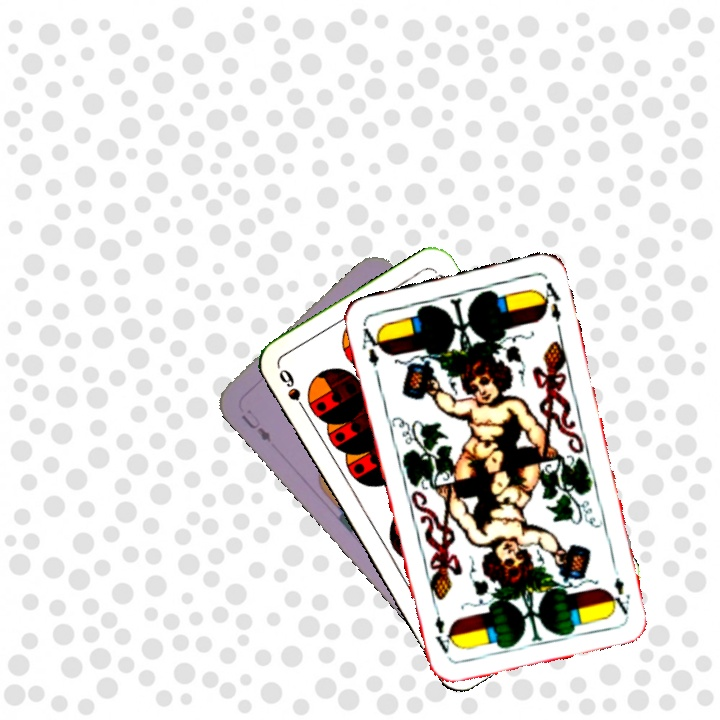EA: (608, 559, 633, 617), (358, 321, 386, 369)
EU: (237, 409, 274, 446)
S9: (274, 364, 311, 418)
